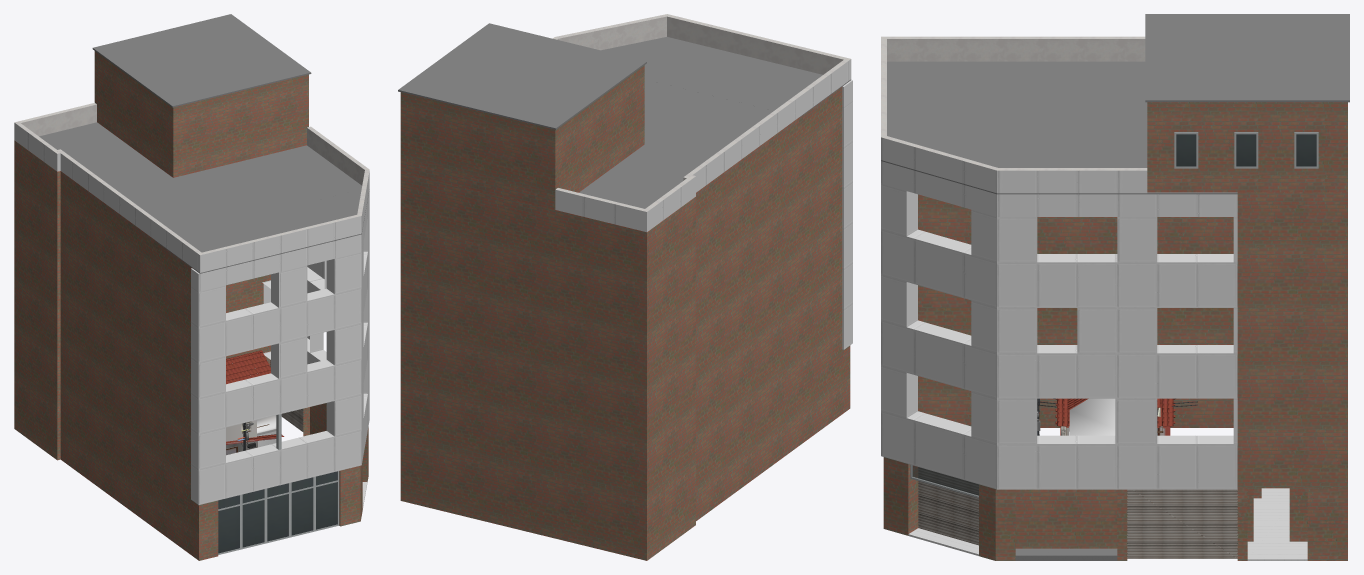
The model's file is town.glb.
The picture shows the model from 3 angles, left to right: view 1: azimuth 30°, elevation 25°; view 2: azimuth 150°, elevation 25°; view 3: azimuth 270°, elevation 25°; orthographic projection. The views are drawn at different scales.
Parts seen in each view (by area): view 1: JPBM06Base, House2, House3; view 2: JPBM06Base; view 3: JPBM06Base, House2, House3.
Boxes of the visible parts, x1,y1,x2,y2 form: JPBM06Base: (14, 14, 369, 560); House2: (226, 350, 276, 447); House3: (226, 420, 284, 455); JPBM06Base: (398, 14, 852, 560); JPBM06Base: (881, 14, 1349, 560); House2: (1067, 398, 1163, 435); House3: (1055, 398, 1175, 435).
Bounding box in the file's own units: 16.07 × 25.41 × 23.39.
Materials: 99 (99 with a texture image).
